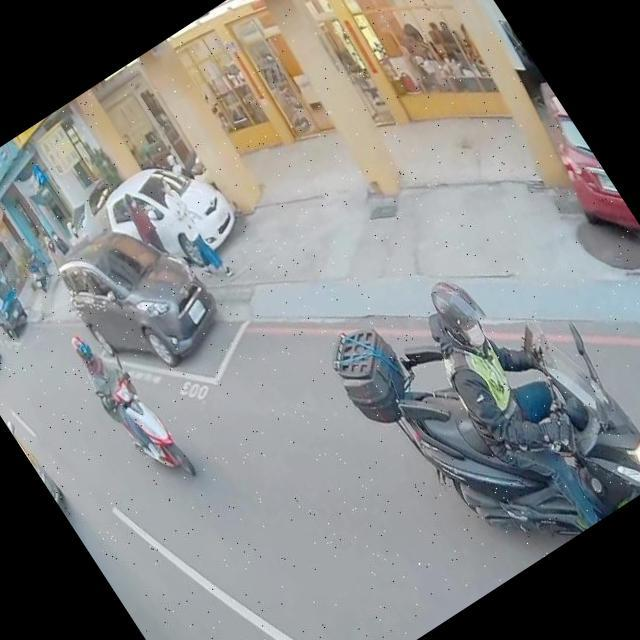person: (389, 241, 640, 551), (62, 320, 186, 478), (144, 164, 236, 282), (116, 189, 176, 264), (38, 230, 72, 274), (56, 209, 91, 247), (47, 227, 74, 260)
